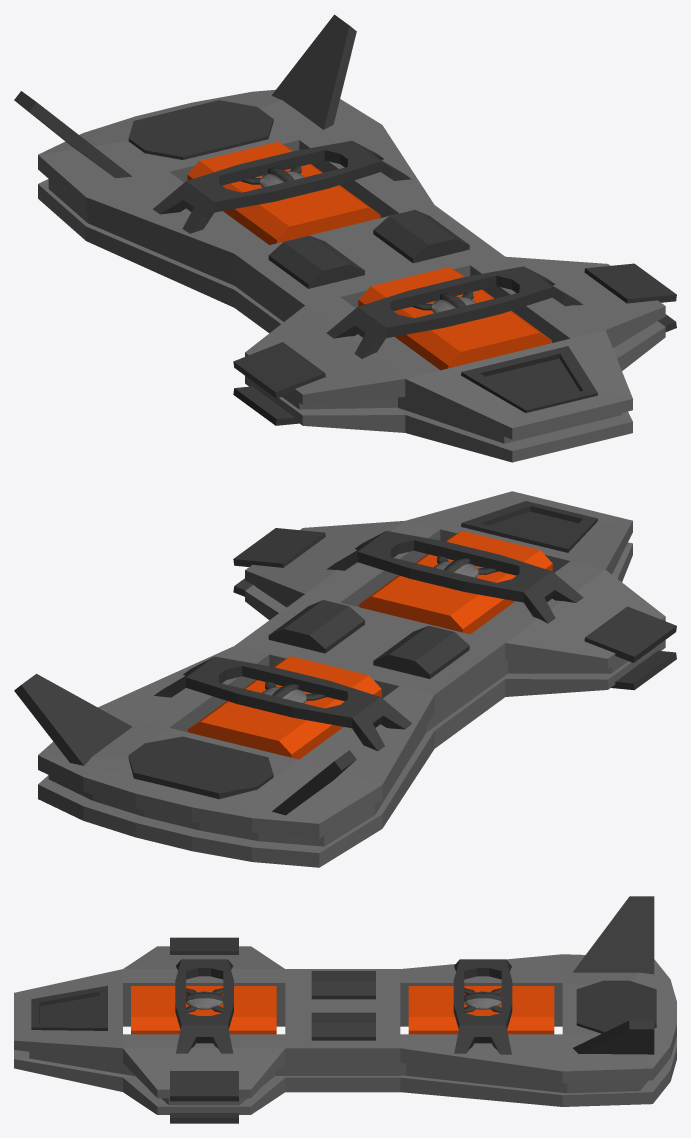
The model's file is Tier1_Supplyline-ship.fbx.
3 views of the same model, one above another, from view 1: azimuth 30°, elevation 25°; view 2: azimuth 150°, elevation 25°; view 3: azimuth 270°, elevation 25° (orthographic). The views are drawn at different scales.
Parts seen in each view (by area): view 1: Ship 1; view 2: Ship 1; view 3: Ship 1.
Part boxes in pixels (x1=…): Ship 1: x1=14, y1=14, x2=676, y2=462; Ship 1: x1=14, y1=491, x2=676, y2=867; Ship 1: x1=14, y1=896, x2=676, y2=1123.
Bounding box in the file's own units: 483 × 162 × 853.
